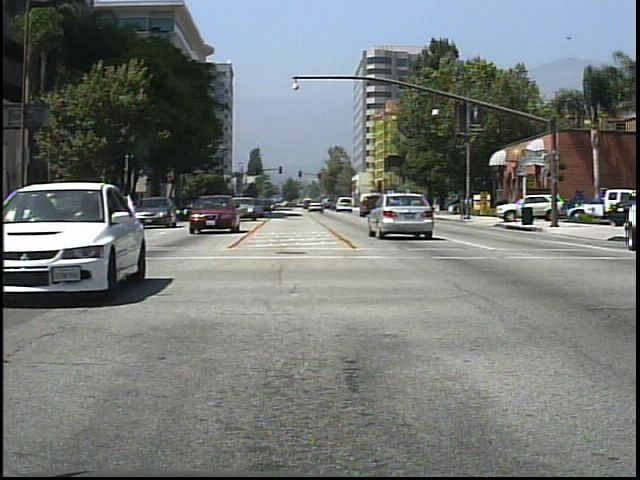car: (1, 177, 151, 308), (370, 192, 424, 241), (186, 198, 233, 236), (500, 190, 552, 218)
strada: (167, 238, 635, 471)
